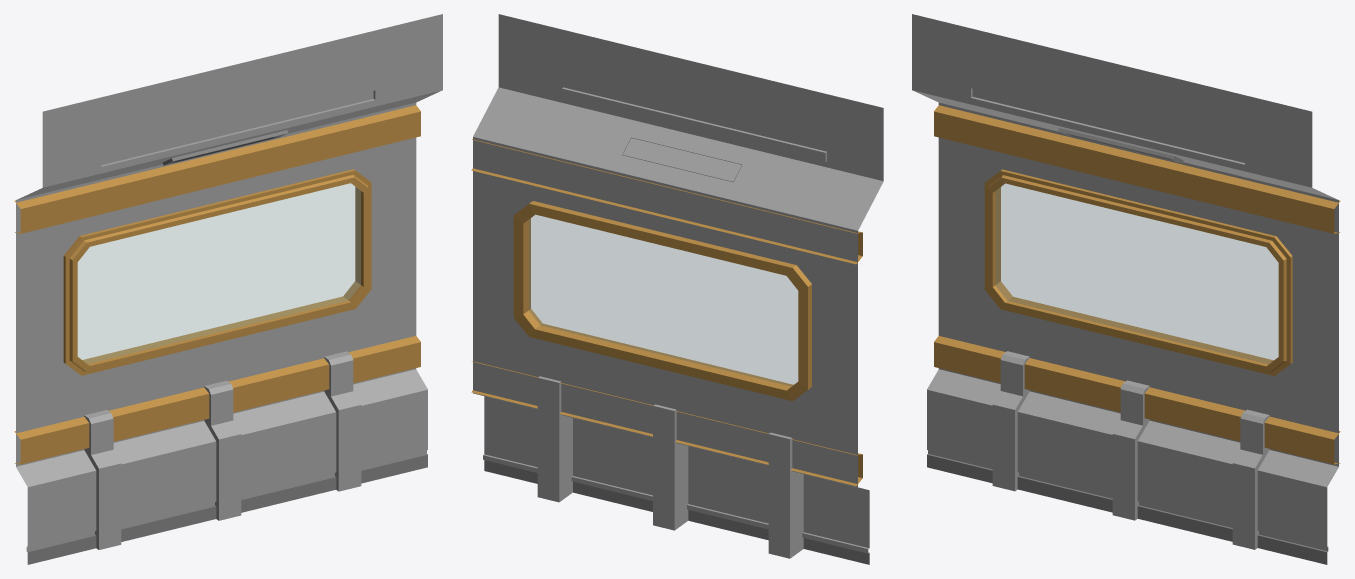
File: Window_Wall_SideB.gltf
3 renders of one model, left to right at view 1: azimuth 30°, elevation 25°; view 2: azimuth 150°, elevation 25°; view 3: azimuth 330°, elevation 25°, orthographic. The views are drawn at different scales.
Visible parts, largest first — view 1: Window_Wall_SideB; view 2: Window_Wall_SideB; view 3: Window_Wall_SideB.
Part boxes in pixels (<box>): Window_Wall_SideB: <box>14,14,442,564</box>; Window_Wall_SideB: <box>471,14,883,564</box>; Window_Wall_SideB: <box>912,14,1340,564</box>.
Size of the model in its own units: 4 by 4.43 by 0.5355.
